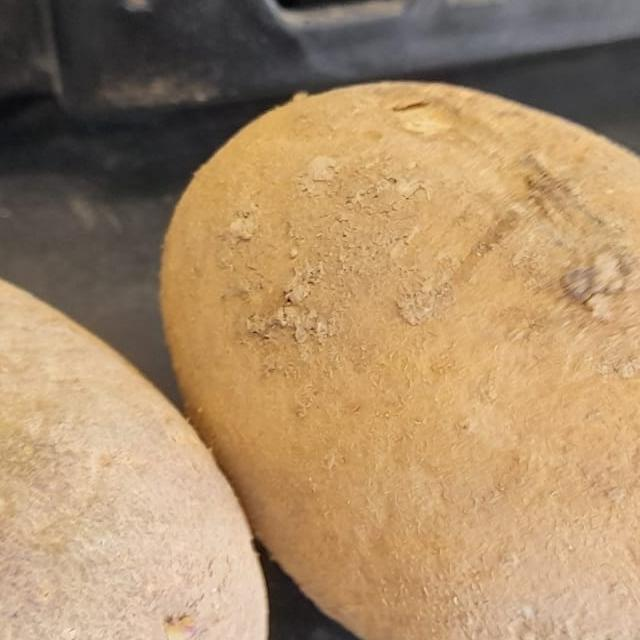potato: (152, 52, 640, 640), (0, 200, 295, 640)
